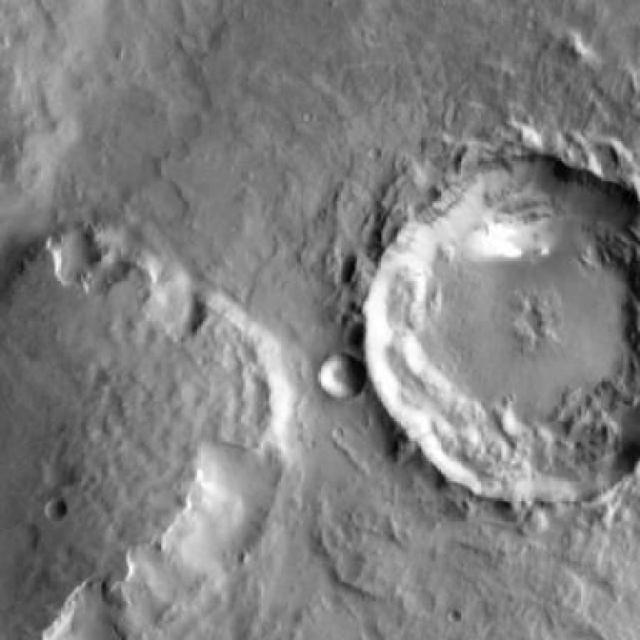crater: (360, 160, 640, 498), (314, 352, 361, 399), (584, 144, 616, 176), (41, 496, 62, 518)
